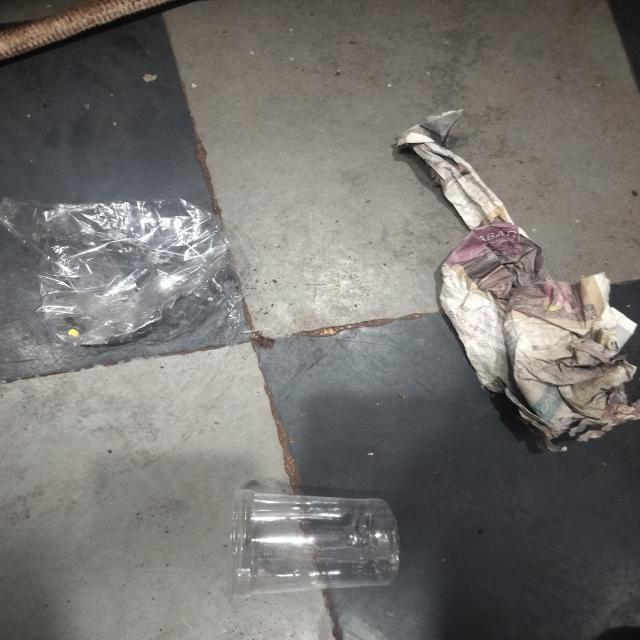dry: (372, 98, 640, 447), (1, 178, 260, 363), (214, 476, 440, 612)
